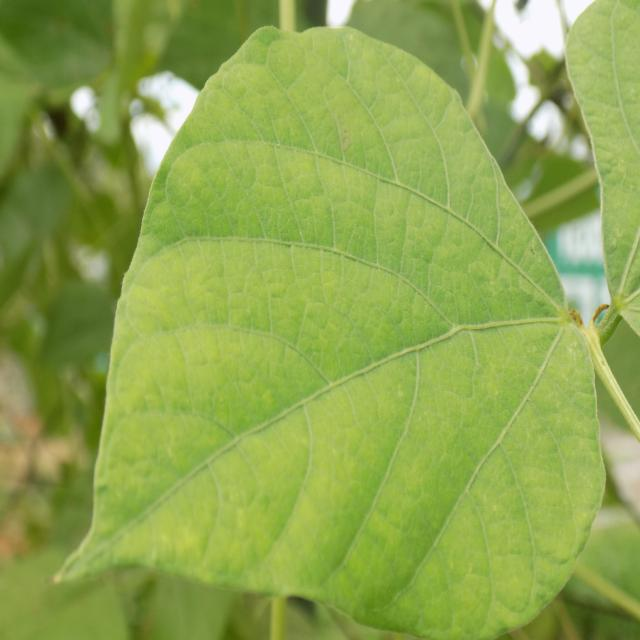Dolicos bean_cercospora leaf spot: (56, 15, 606, 640)
